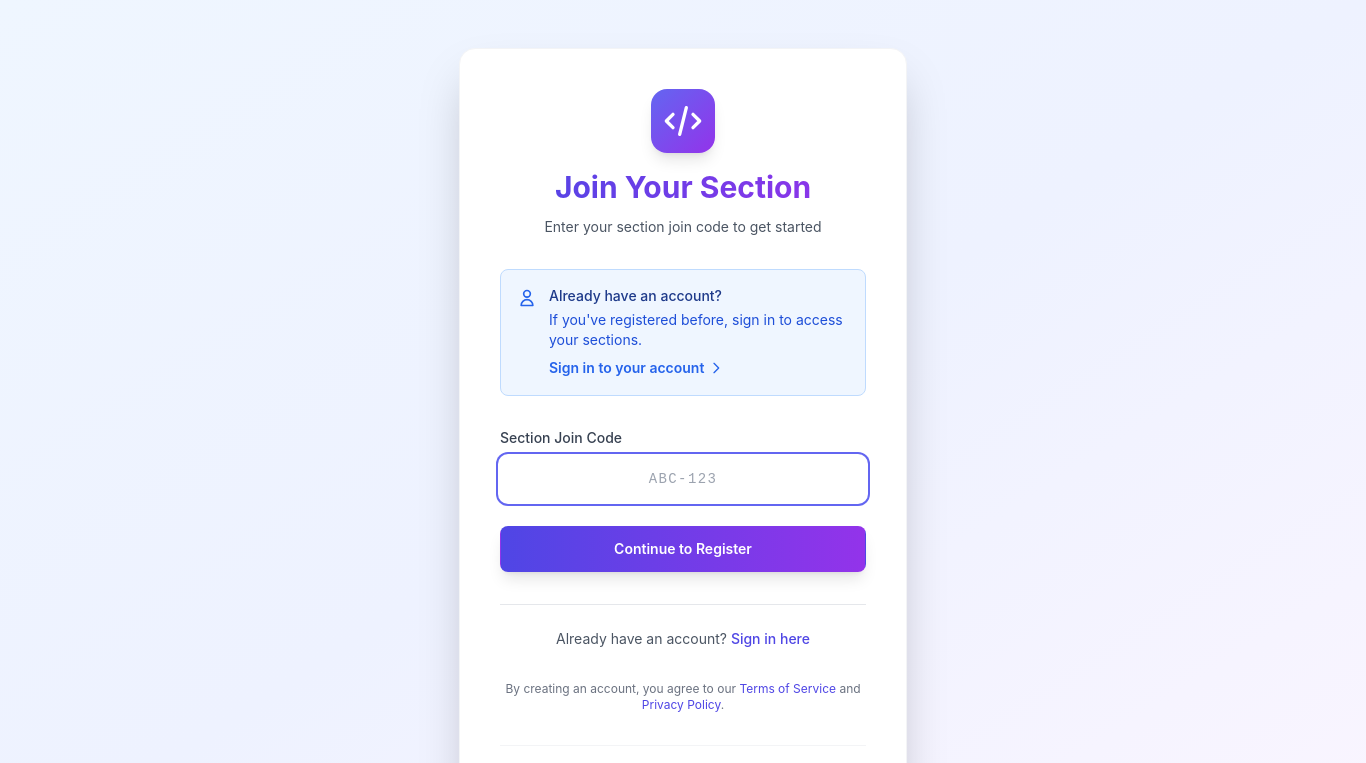
Test: StudentRegistrationPage › Code Validation › shows error for inactive section
Type "ABC123" into the field with placeholder "ABC-123".
click(683, 479); type("ABC123")  # box [500, 456, 866, 502]
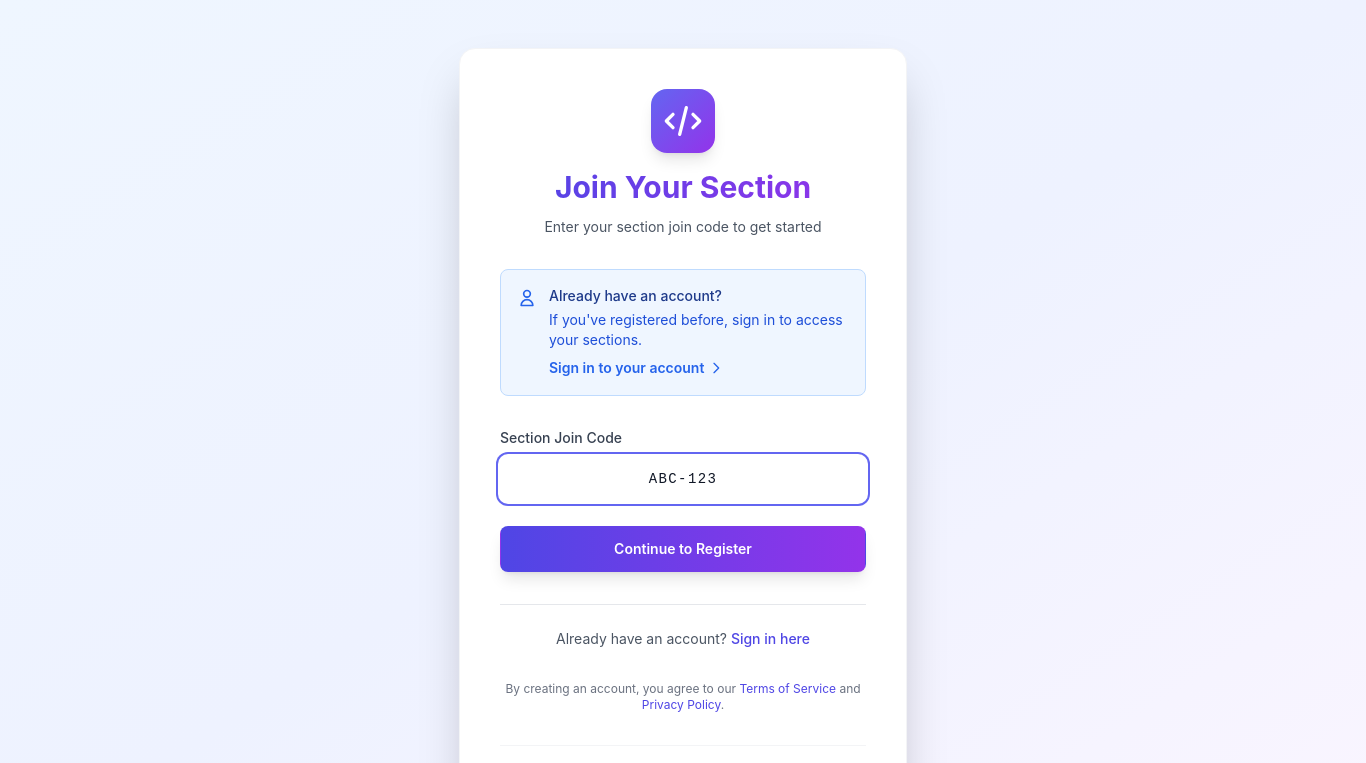
Click the button "Continue to Register".
click(683, 549)  # box [500, 526, 866, 572]
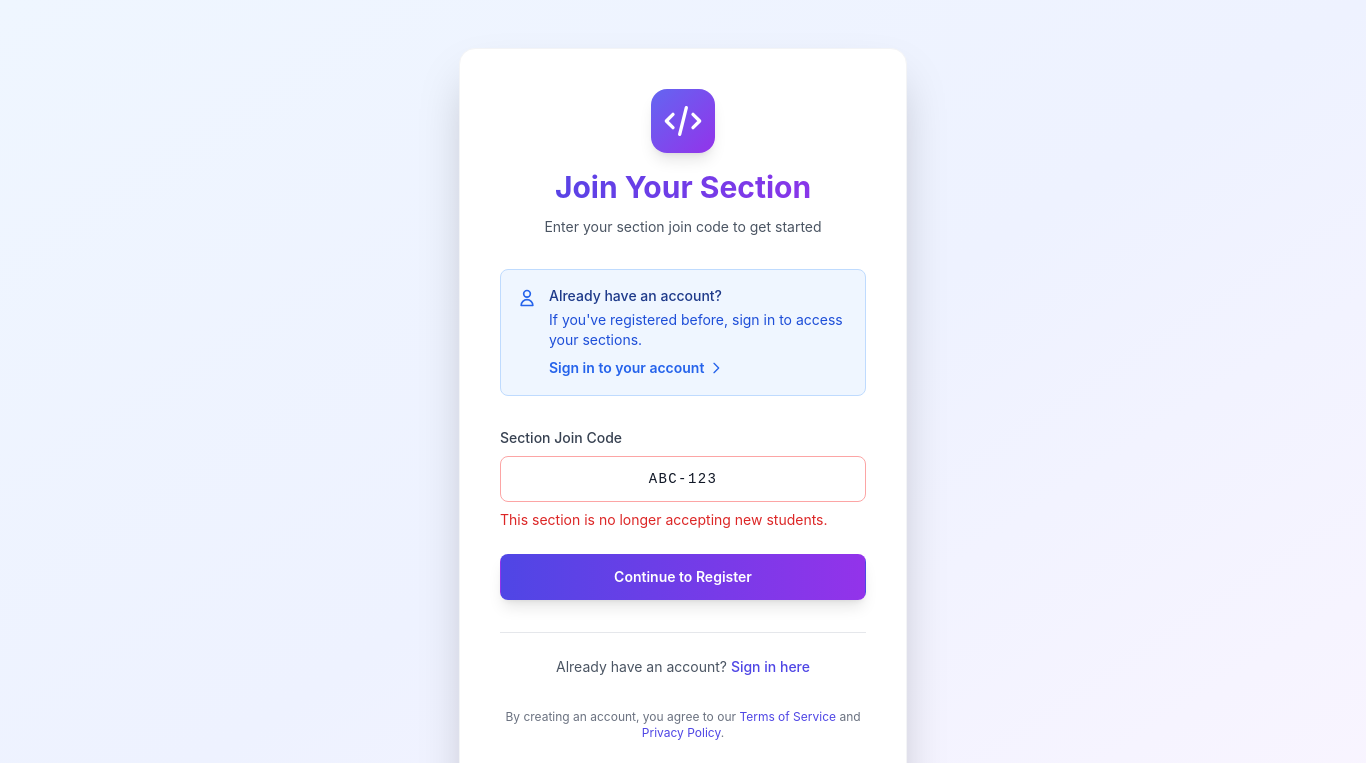
Now the text "This section is no longer accepting new students." is shown, box [500, 510, 866, 530]
